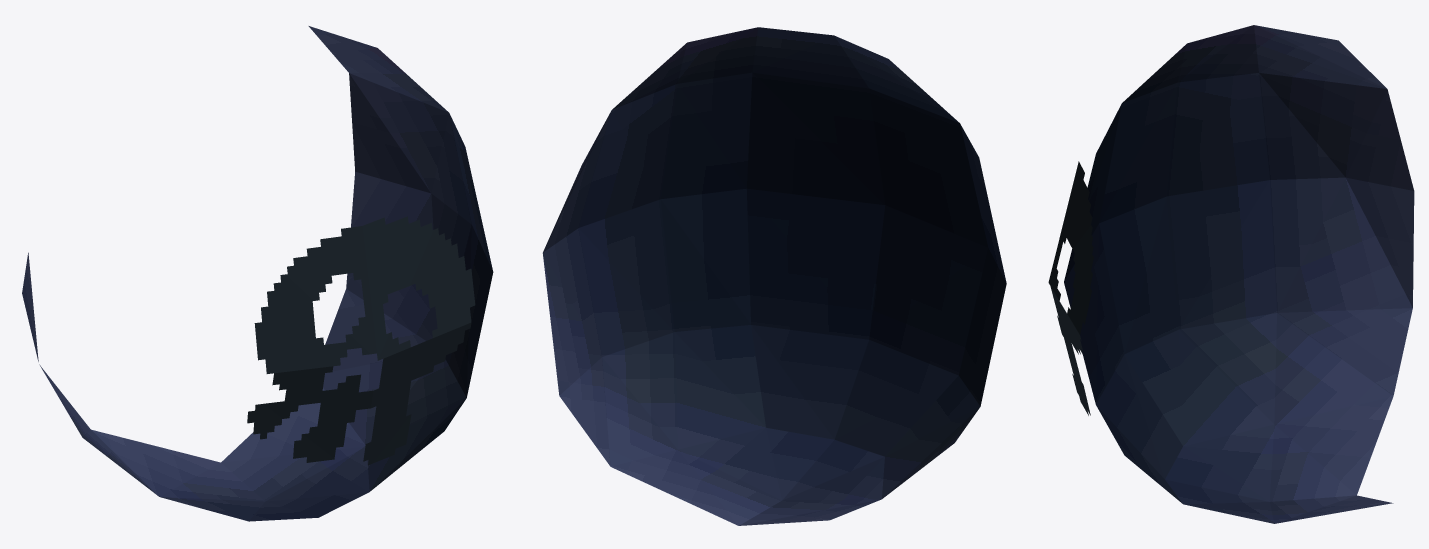
File: blast.glb
The picture shows the model from 3 angles, left to right: view 1: azimuth 30°, elevation 25°; view 2: azimuth 150°, elevation 25°; view 3: azimuth 270°, elevation 25°; orthographic projection.
Visible parts, largest first — view 1: material-03FBC186, material-01C6A3B9; view 2: material-03FBC186; view 3: material-03FBC186, material-01C6A3B9.
Boxes of the visible parts, x1,y1,x2,y2 form: material-03FBC186: [22, 26, 493, 521]; material-01C6A3B9: [247, 216, 475, 465]; material-03FBC186: [542, 27, 1006, 525]; material-03FBC186: [1064, 25, 1414, 523]; material-01C6A3B9: [1048, 161, 1093, 415].
Bounding box in the file's own units: 0.5644 × 0.6013 × 0.4214.
2 materials, 2 textured.
